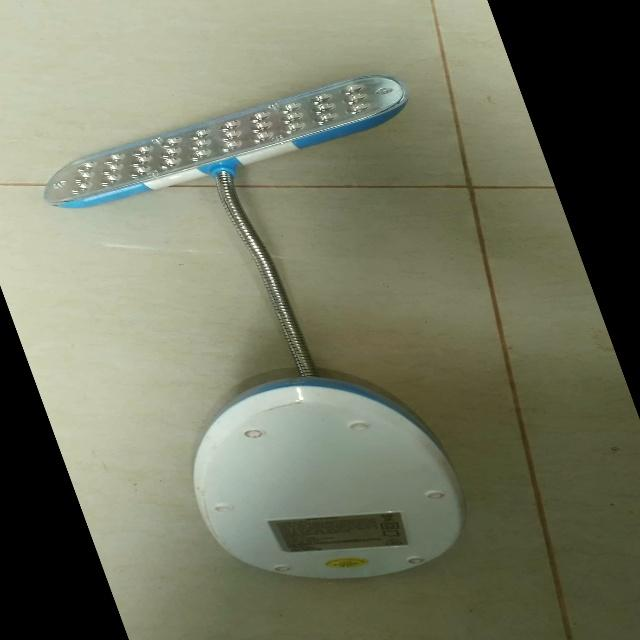Lantern: (0, 58, 626, 620)
